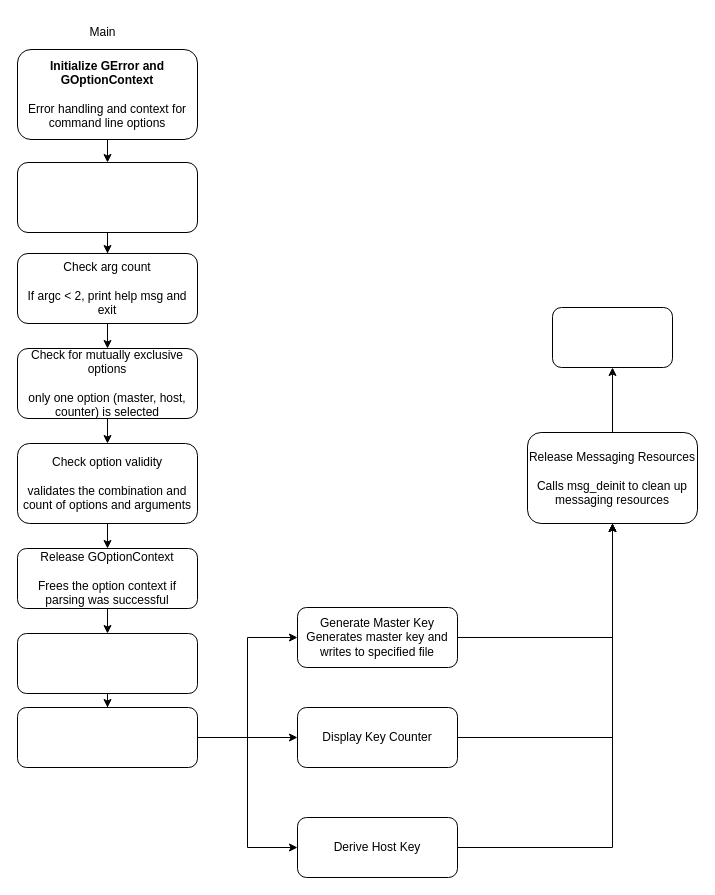
This 715x895 diagram has some shape labels left out. The shapes that lost their labels are listed below. From the top down, each one's centre as x and y in pixels, then its label:
the point at 107,197: Parse Command Line options g_option_context_parse()
the point at 612,337: Return
the point at 107,663: Initialize Messaging Calls msg_init to initialize messaging subsystem
the point at 107,737: Check master Key Generation
